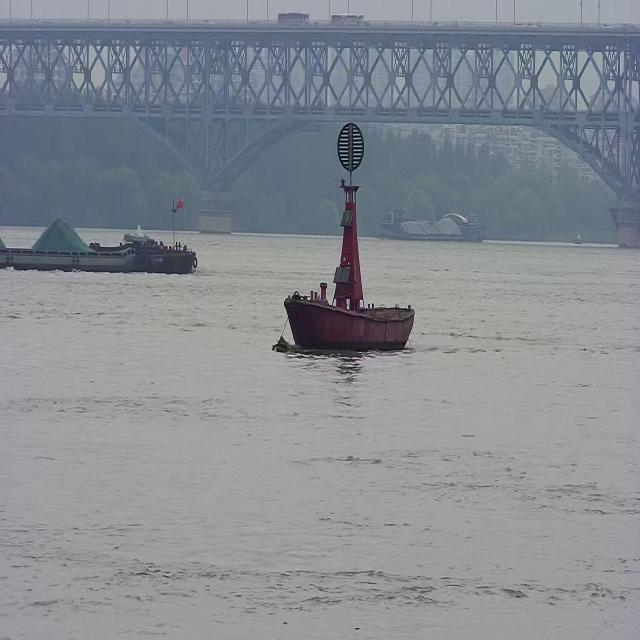CIV_Ship: (276, 120, 421, 358), (571, 229, 589, 249)
